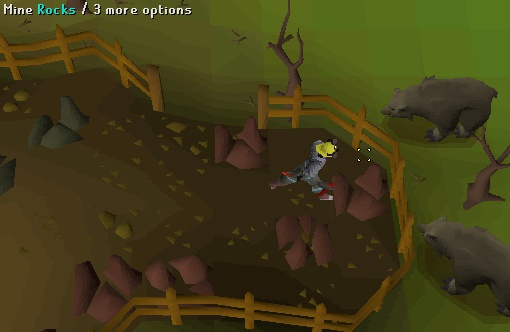coal: (18, 86, 99, 160)
iron: (206, 109, 280, 177), (267, 207, 341, 275)
